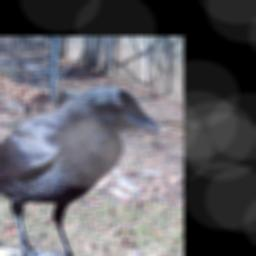Crow: (0, 87, 161, 256)
